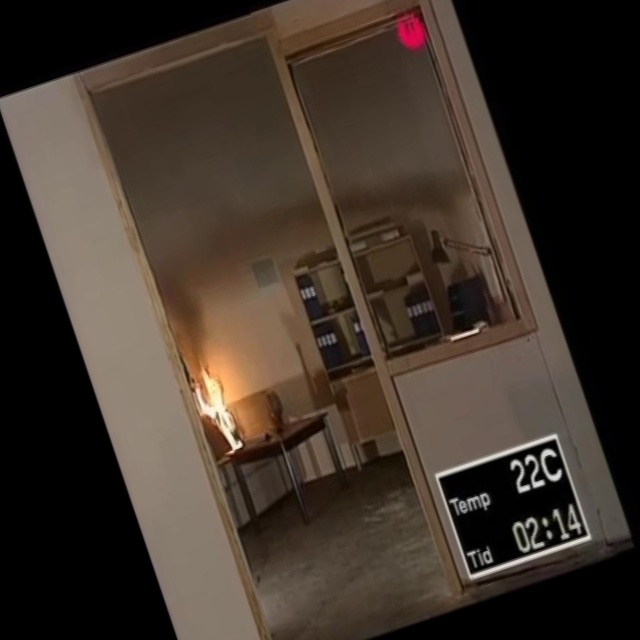fire: (178, 339, 271, 459)
